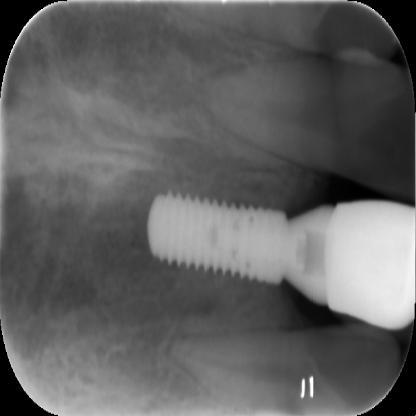ITI: (146, 188, 293, 291)
